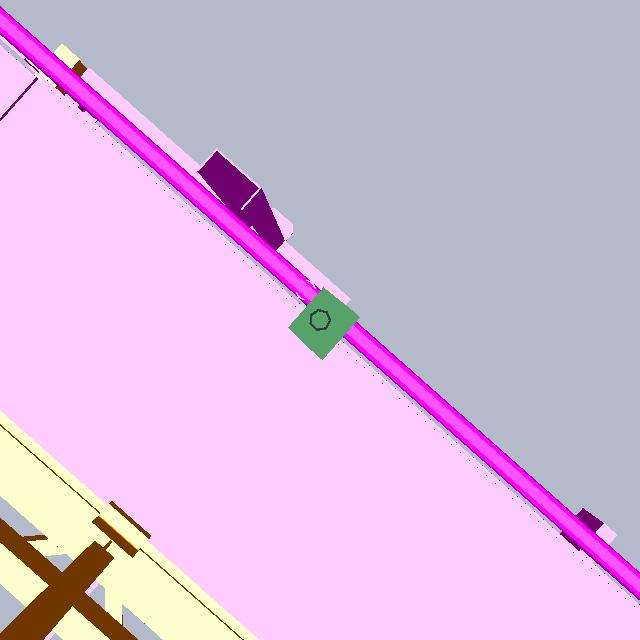Poste: (308, 308, 332, 335)
Soporte: (188, 145, 288, 263)
